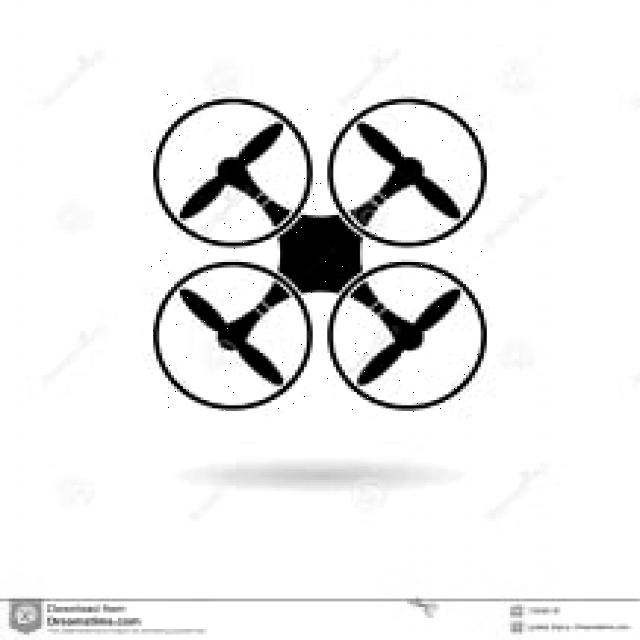drone: (149, 92, 489, 413)
